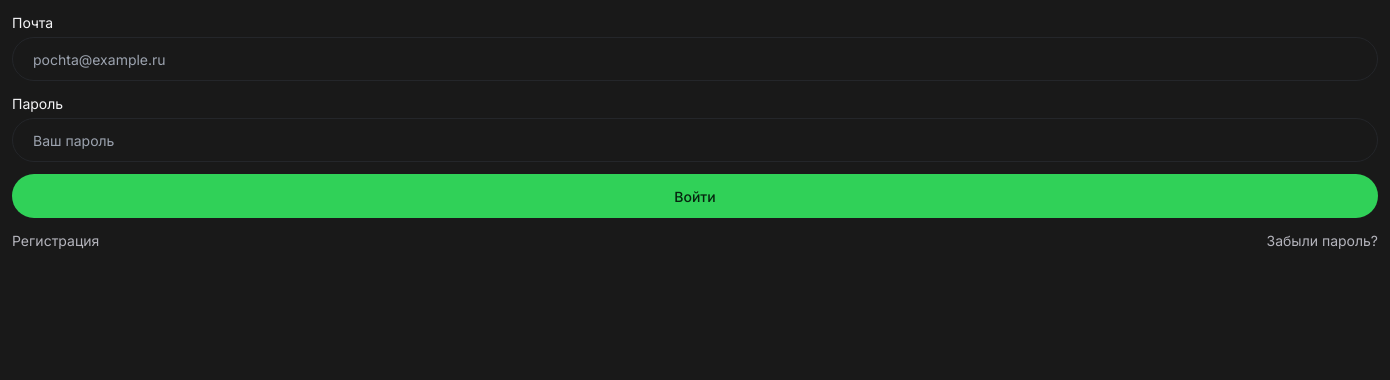
it: EmailAuthForm: регистрация › shows the blocked domain notice on blur and blocks submit
Click the button "Регистрация" at (56, 240), box [12,230,99,251]
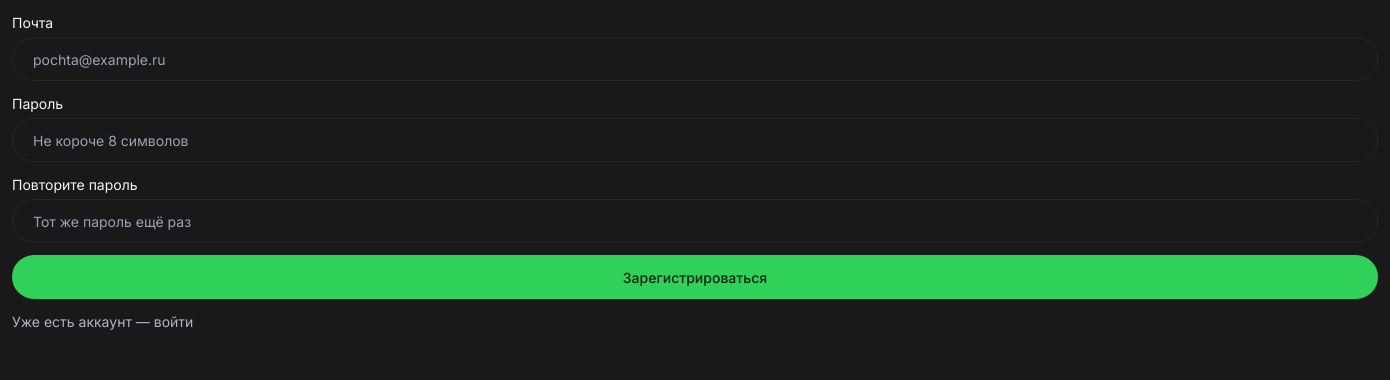
Type "a@gmail.com" into the field labelled "Почта" at (695, 59), box [12,37,1378,81]
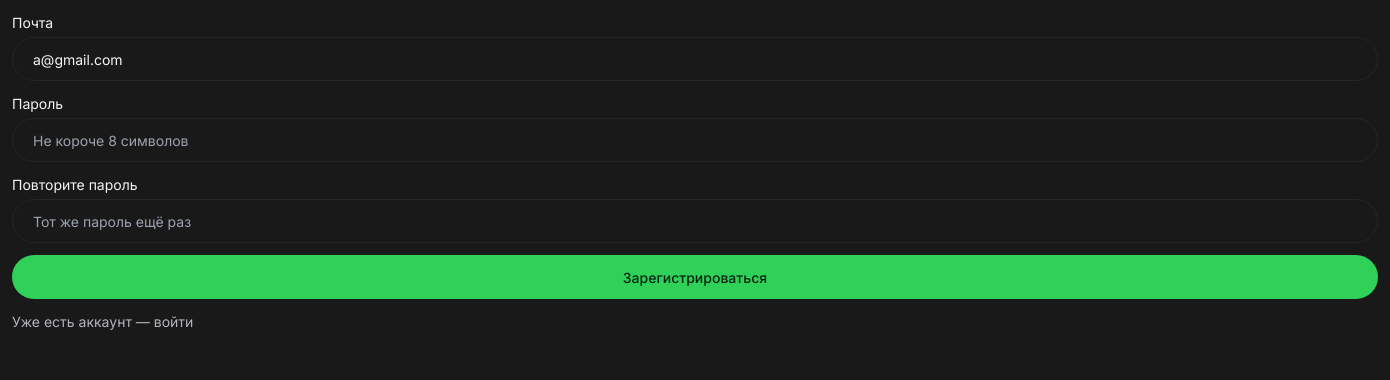
Leave the field labelled "Почта", box [12,37,1378,81]
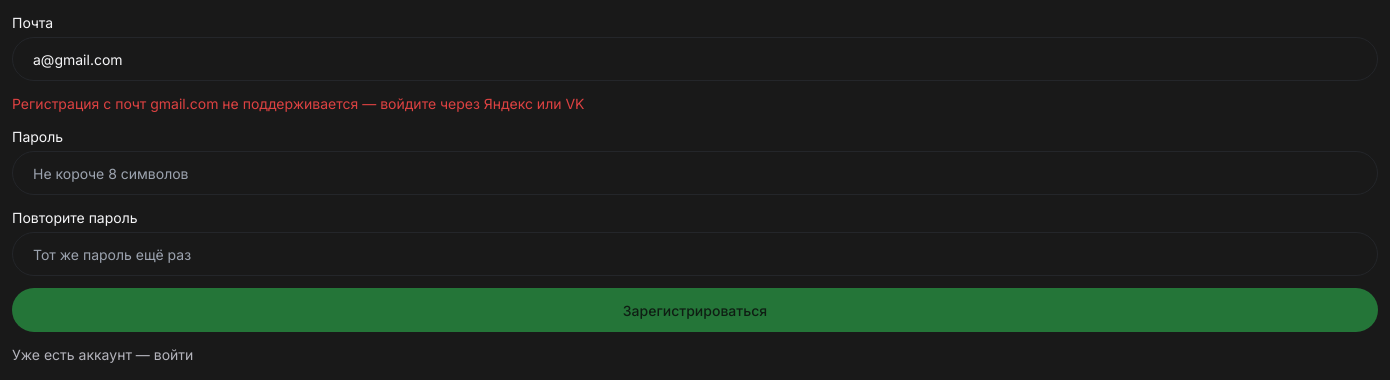
Now the text "gmail.com не поддерживается" is shown, box [12,95,584,112]
Now the button "Зарегистрироваться" is disabled, box [12,288,1378,332]
